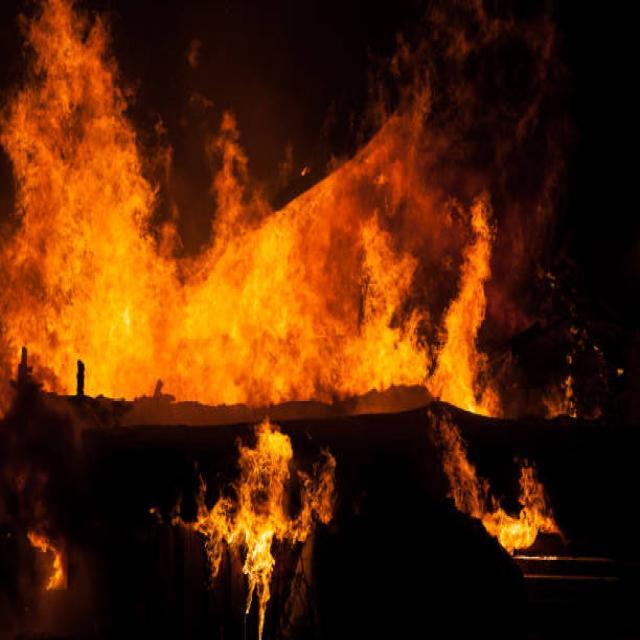Fire: (0, 3, 507, 414), (180, 422, 338, 617), (430, 410, 562, 558), (26, 526, 68, 594)
